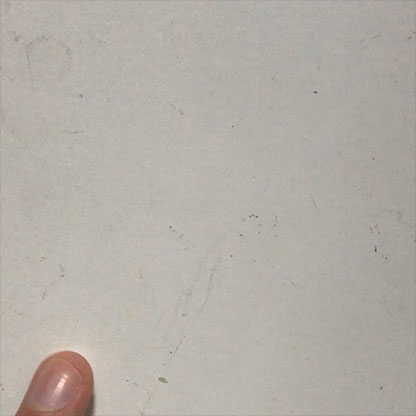fingertip: (9, 345, 111, 415)
